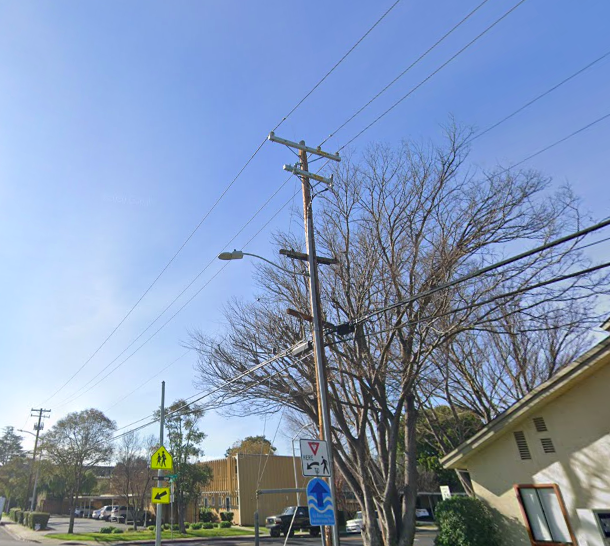utility_pole: (262, 121, 346, 200)
